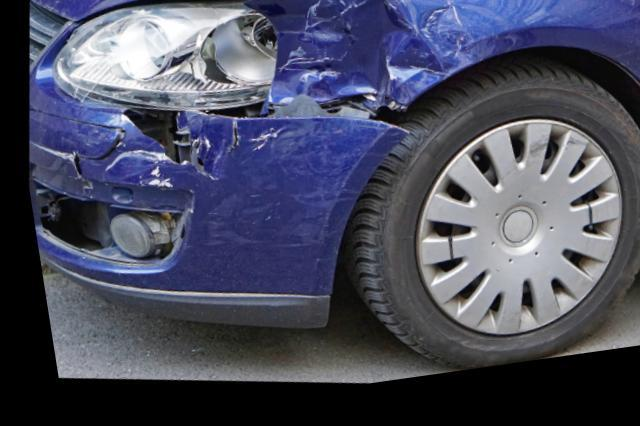crack: (119, 111, 212, 187), (67, 156, 86, 188), (222, 125, 235, 159)
dent: (245, 0, 477, 115)
dislocated part: (199, 103, 393, 146)
lamp broken: (51, 5, 275, 114)
no part: (28, 187, 175, 264)
